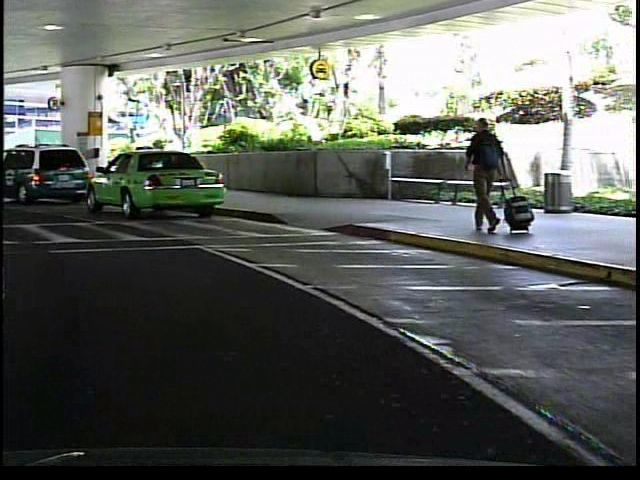person: (455, 112, 512, 244)
